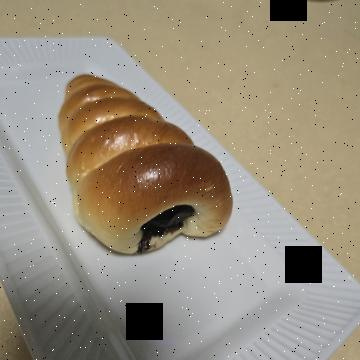cream horn: (51, 114, 270, 308)
